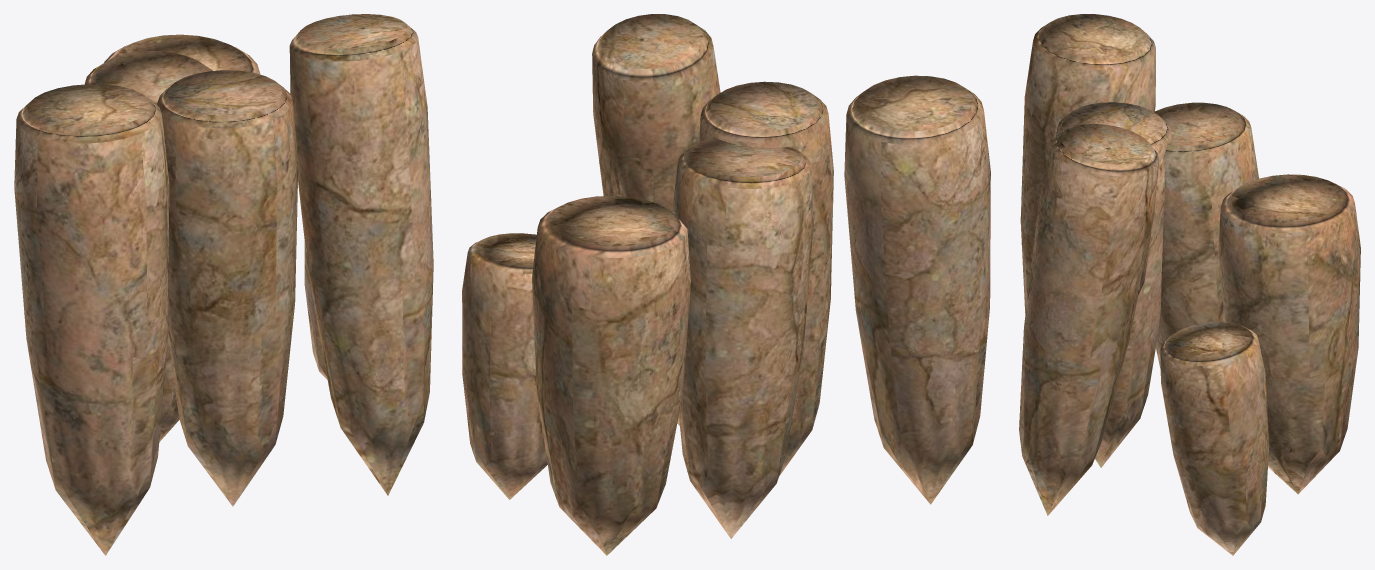
File: sponge.glb
The picture shows the model from 3 angles, left to right: view 1: azimuth 30°, elevation 25°; view 2: azimuth 150°, elevation 25°; view 3: azimuth 270°, elevation 25°; orthographic projection. The views are drawn at different scales.
Visible parts, largest first — view 1: sponge; view 2: sponge; view 3: sponge.
Part boxes in pixels (left/top/right/bottom): sponge: left=14, top=14, right=433, bottom=555; sponge: left=462, top=14, right=990, bottom=555; sponge: left=1019, top=14, right=1360, bottom=555.
Size of the model in its own units: 2.39 by 2.23 by 1.79.
Materials: 1 (1 with a texture image).
